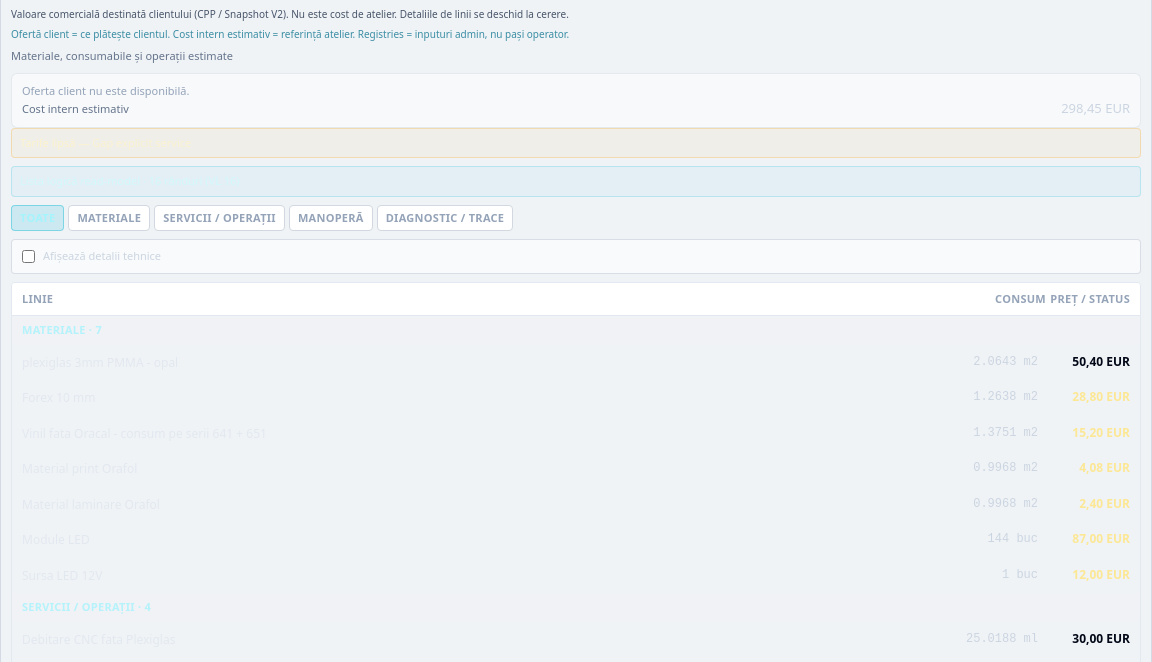
Test: IntakeV6LiveCalculationSummary › shows technical-only badges again when technical details are enabled
This screenshot has width=1152, height=662.
Click the checkbox labelled "Afișează detalii tehnice".
click(28, 257)  # box [22,250,35,263]
(page scrolled)
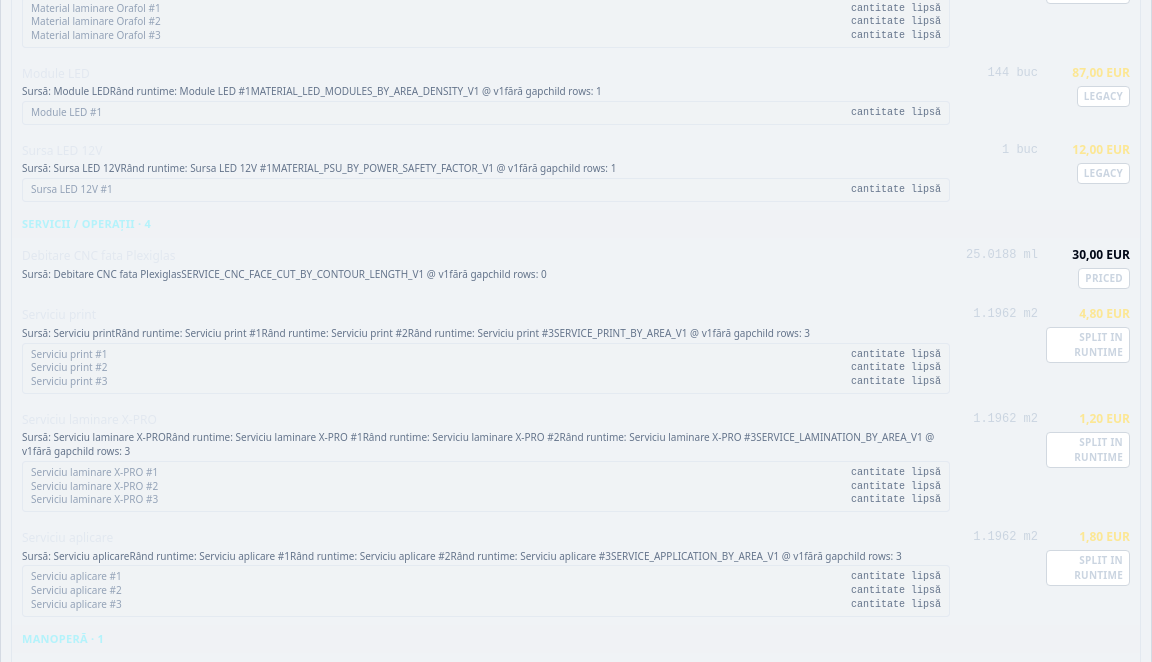
Check: the element with test id "intake-v6-live-material-cost-service.print" shows "split in runtime", box [1074,330,1123,359]
